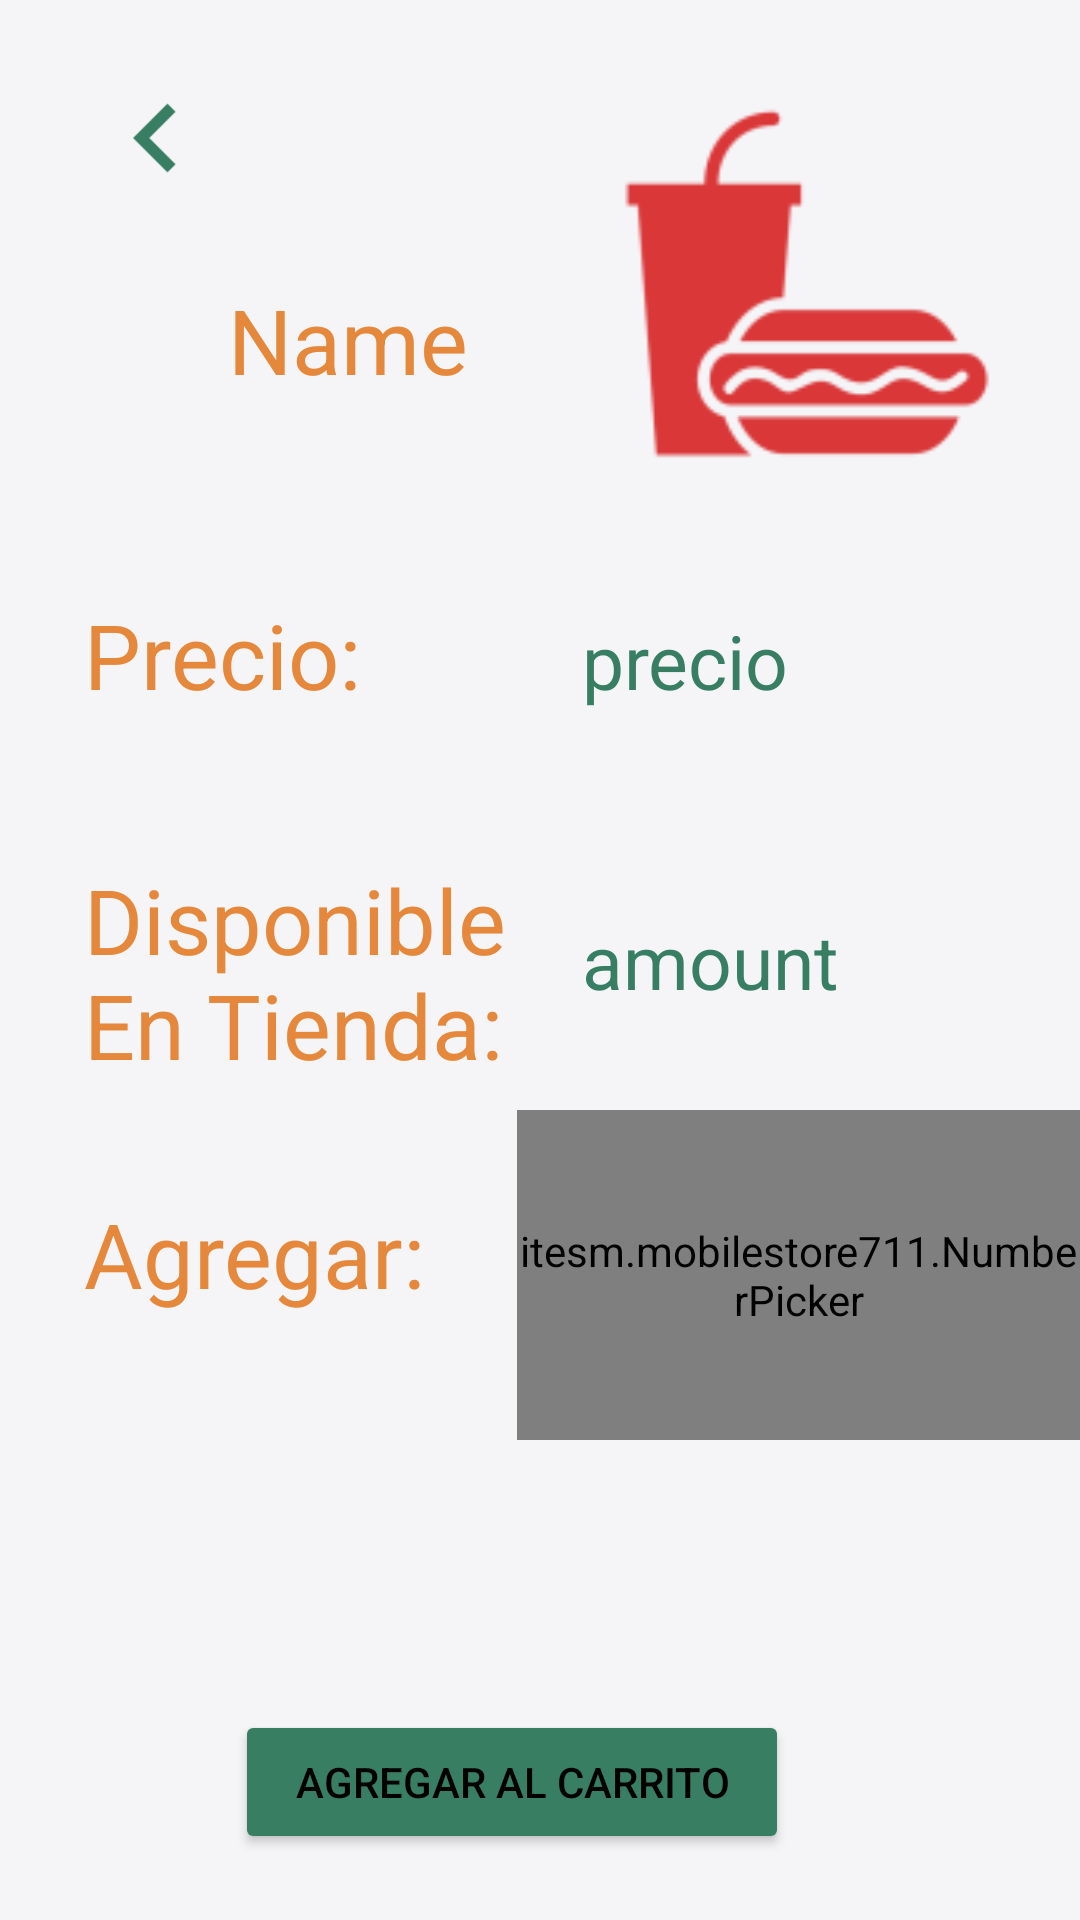

Icons on this 1080x1920 Android screen, each with its box as Rect(x1, y1, x2, y2):
back: Rect(133, 103, 176, 173)
